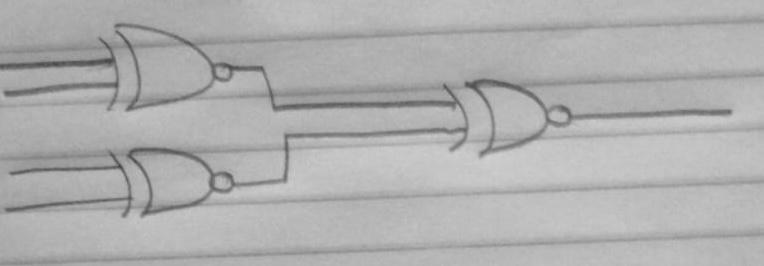XNOR: (87, 12, 245, 123), (426, 61, 589, 159), (98, 138, 254, 225)
